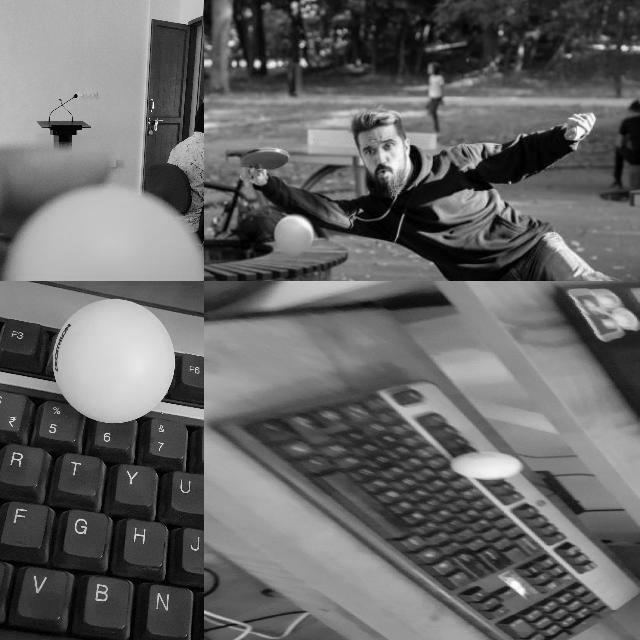ping-pong-ball: (0, 185, 203, 280), (51, 295, 175, 421), (448, 452, 518, 480), (275, 215, 311, 253)
